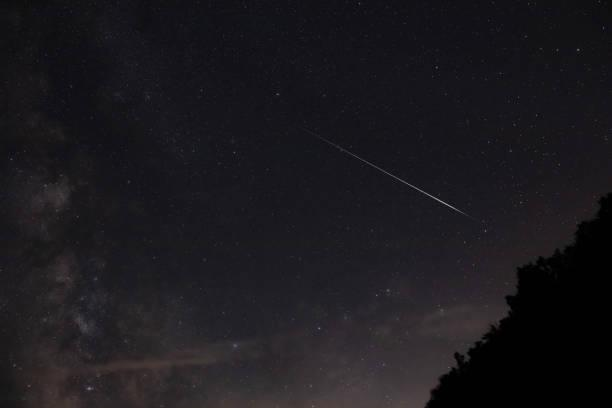meteor: (456, 204, 486, 225)
